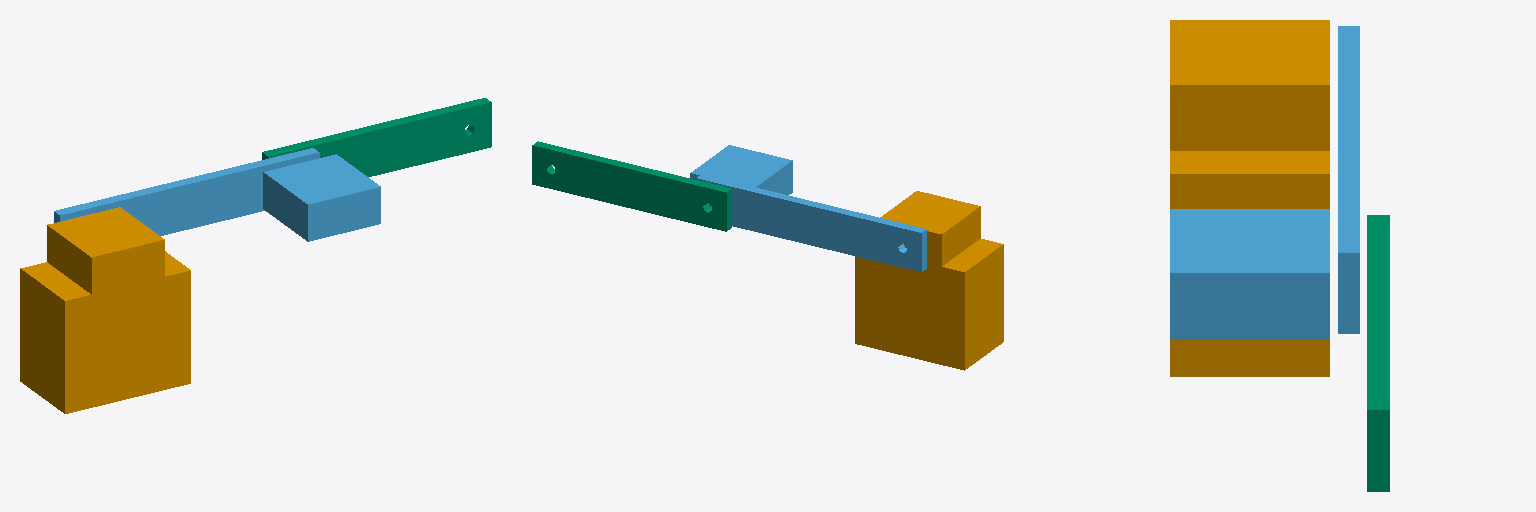
robot.urdf — two_link_arm:
<?xml version="1.0"?>
<robot name="two_link_arm">
  <link name="base_link">
    <inertial>
      <origin xyz="-1.78063488e-19 -0.02345 0.0378720092" rpy="0 0 0"/>
      <mass value="0.2784232"/>
      <inertia ixx="0.000181594537" iyy="0.000237716853" izz="0.000141524456" ixy="1.54201322e-22" ixz="-5.04262103e-22" iyz="6.89688618e-21"/>
    </inertial>
    <visual>
      <geometry><mesh filename="meshes/base_link_visual.stl"/></geometry>
    </visual>
    <collision>
      <geometry><mesh filename="meshes/base_link_base_block_collision.stl"/></geometry>
    </collision>
    <collision>
      <geometry><mesh filename="meshes/base_link_shoulder_servo_collision.stl"/></geometry>
    </collision>
  </link>
  <link name="link_1">
    <inertial>
      <origin xyz="0.101100027 6.24080472e-20 -0.0151182619" rpy="0 0 0"/>
      <mass value="0.0802919179"/>
      <inertia ixx="2.36436901e-05" iyy="0.000133509736" izz="0.000115890058" ixy="4.93094698e-23" ixz="2.74947356e-05" iyz="-4.07021942e-23"/>
    </inertial>
    <visual>
      <geometry><mesh filename="meshes/link_1_visual.stl"/></geometry>
    </visual>
    <collision>
      <geometry><mesh filename="meshes/link_1_link_1_bar_collision.stl"/></geometry>
    </collision>
    <collision>
      <geometry><mesh filename="meshes/link_1_joint_2_servo_collision.stl"/></geometry>
    </collision>
  </link>
  <link name="link_2">
    <inertial>
      <origin xyz="0.05 1.42922998e-19 0.003" rpy="0 0 0"/>
      <mass value="0.0217207179"/>
      <inertia ixx="1.12700465e-06" iyy="2.73829754e-05" izz="2.83796558e-05" ixy="-3.86972332e-23" ixz="0" iyz="-2.6324385e-27"/>
    </inertial>
    <visual>
      <geometry><mesh filename="meshes/link_2_visual.stl"/></geometry>
    </visual>
    <collision>
      <geometry><mesh filename="meshes/link_2_link_2_bar_collision.stl"/></geometry>
    </collision>
  </link>
  <joint name="joint_1" type="revolute">
    <parent link="base_link"/>
    <child link="link_1"/>
    <origin xyz="0 0 0.06985" rpy="-1.57079633 -0 0"/>
    <axis xyz="0 0 1"/>
    <limit lower="-1.57079633" upper="1.57079633" effort="1.0787315" velocity="7.47998251"/>
    <dynamics damping="0.05" friction="0"/>
  </joint>
  <joint name="joint_2" type="revolute">
    <parent link="link_1"/>
    <child link="link_2"/>
    <origin xyz="0.12 0 0.008" rpy="0 -0 0"/>
    <axis xyz="0 0 1"/>
    <limit lower="-1.57079633" upper="1.57079633" effort="1.0787315" velocity="7.47998251"/>
    <dynamics damping="0.05" friction="0"/>
  </joint>
</robot>

--- Render facts (derived) ---
The picture shows the robot from 3 angles, left to right: view 1: azimuth 30°, elevation 25°; view 2: azimuth 150°, elevation 25°; view 3: azimuth 270°, elevation 25°; orthographic projection.
Robot: two_link_arm — 3 links, 2 joints (2 revolute); root link base_link; default pose: all joints at 0.
Visible links, largest first — view 1: base_link, link_1, link_2; view 2: base_link, link_1, link_2; view 3: base_link, link_1, link_2.
Boxes of the visible links, x1,y1,x2,y2 form: base_link: [20, 207, 190, 413]; link_1: [54, 148, 380, 241]; link_2: [262, 98, 491, 176]; base_link: [855, 191, 1003, 370]; link_1: [690, 145, 926, 271]; link_2: [532, 141, 731, 231]; base_link: [1170, 20, 1329, 376]; link_1: [1170, 26, 1359, 339]; link_2: [1367, 215, 1389, 491].
Bounding box of the posed robot: 0.267 × 0.0589 × 0.0818 m (x, y, z).
Meshes: 3 distinct files referenced, 3 mesh visuals loaded (3 binary STL).
